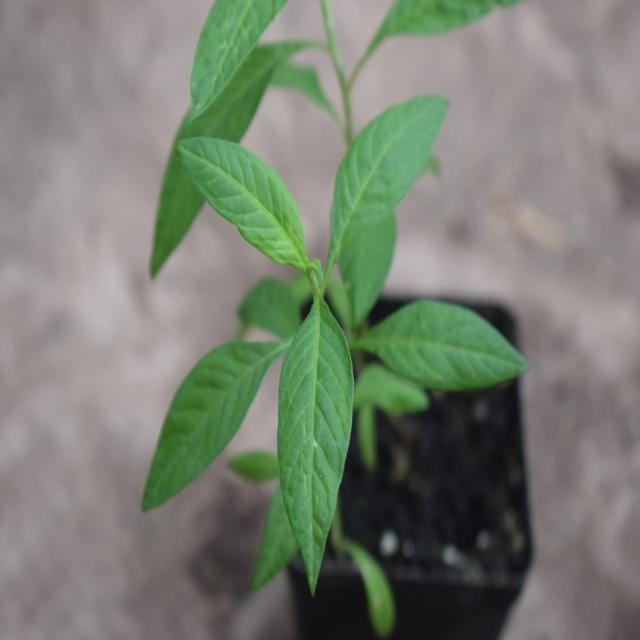white_smart_weed: (140, 93, 501, 564)
